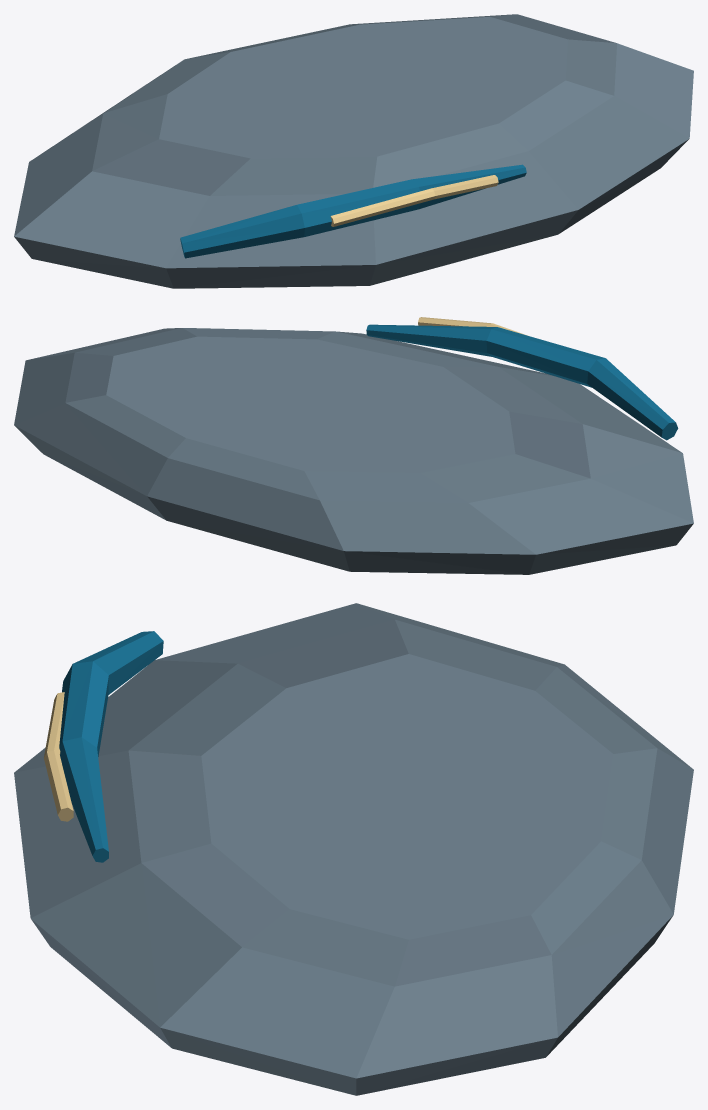
File: EM_SurfShelf.fbx
3 renders of one model, top to bottom at view 1: azimuth 30°, elevation 25°; view 2: azimuth 150°, elevation 25°; view 3: azimuth 270°, elevation 25°, orthographic. The views are drawn at different scales.
Visible parts, largest first — view 1: EM_SurfShelf; view 2: EM_SurfShelf; view 3: EM_SurfShelf.
Boxes of the visible parts, x1,y1,x2,y2 form: EM_SurfShelf: [14, 14, 693, 288]; EM_SurfShelf: [14, 317, 693, 574]; EM_SurfShelf: [14, 603, 693, 1095].
Size of the model in its own units: 3.22 by 0.3633 by 1.94.
